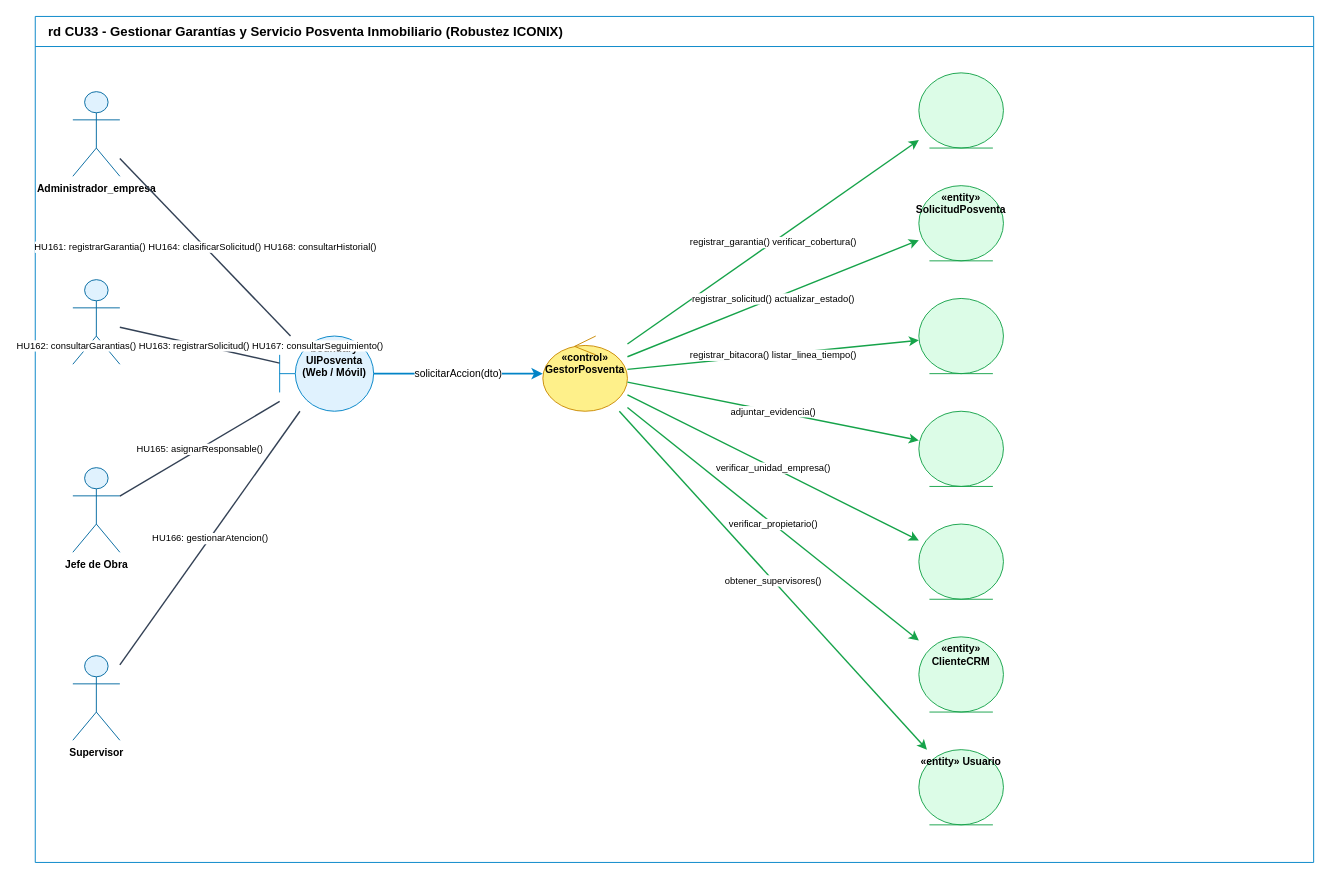
Image size: 1330x879. Some labels were removed from this diagram. The box of each missing label's shape, as (x1, y1, x2, y2) in pixels:
Cliente: (72, 279, 120, 364)
«entity» BitacoraPosventa: (918, 298, 1003, 374)
«entity» EvidenciaPosventa: (918, 410, 1003, 486)
«entity» UnidadConstruccion: (918, 523, 1003, 599)
«entity» UnidadGarantia: (918, 72, 1003, 148)
